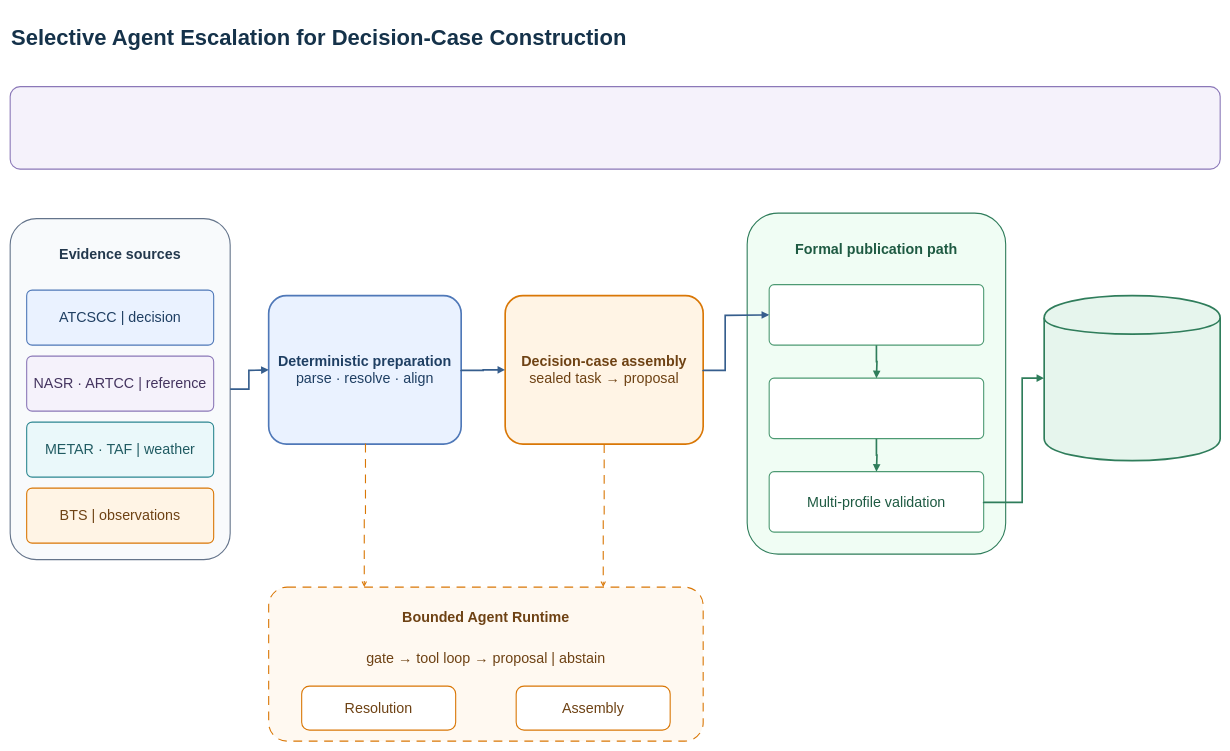
The diagram is 1230 pixels wide and 751 high, and some of its shapes have lost their labels. The shapes that lost their labels are listed below. From the top down, each one's box as (x1, y1, x2, y2) in pixels, then its label:
(9, 86, 1220, 169): Semantic control | ATMONTO profiles · FAA authority · evidence rules
(768, 284, 984, 345): Decision profile check
(1043, 295, 1221, 461): Canonical corpus v2 cases · facts · evidence provenance
(768, 377, 984, 439): Case membership finalizer
